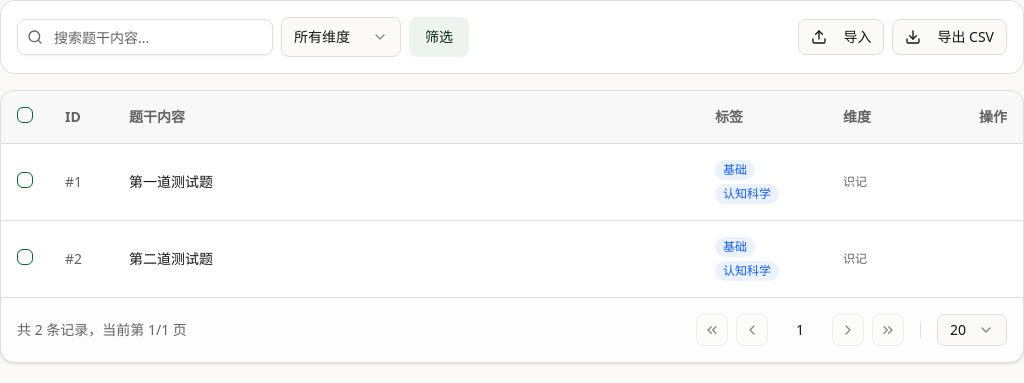
it: QuestionManager 集成测试 › 勾选多道题目后，应显示批量删除按钮，点击后批量删除并刷新列表
Expected: the text "第一道测试题" is shown, [129,172,213,191]
Expected: the button "删除 (" is not shown
点击表头"全选" Checkbox
Click the checkbox next to "ID" at (25, 115), box [17,107,33,123]
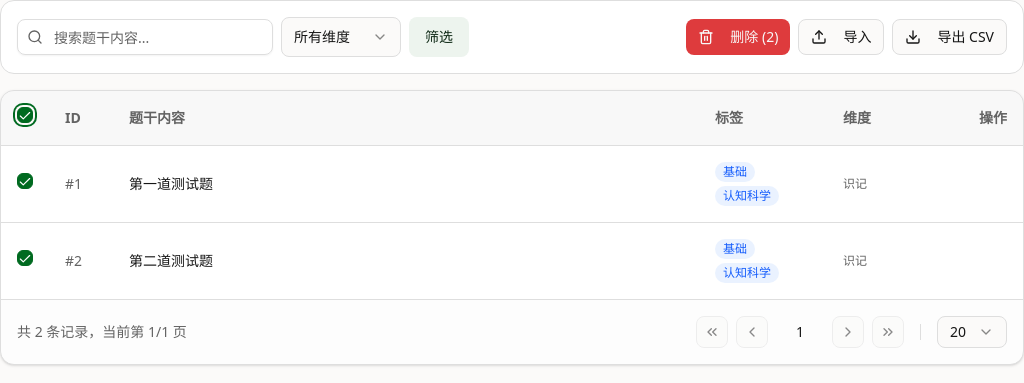
Expected: the button "删除 (2)" is shown
Click the button "删除 (2)" at (738, 37), box [686,19,790,55]
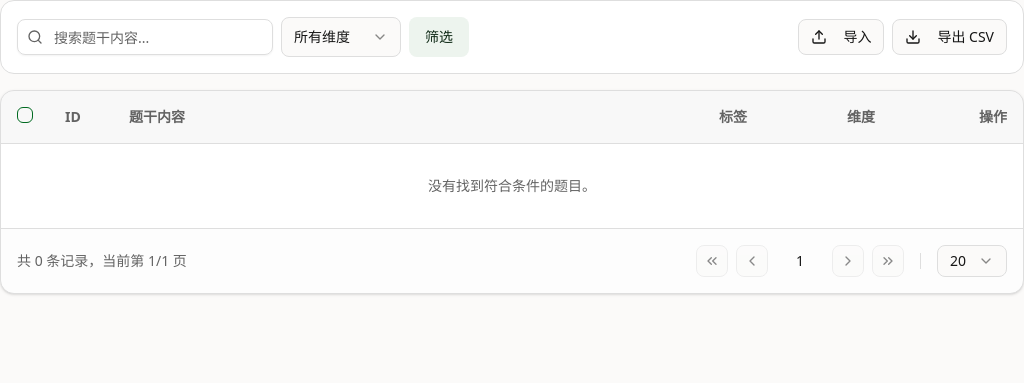
Expected: the text "没有找到符合条件的题目。" is shown, [1,144,1023,228]
